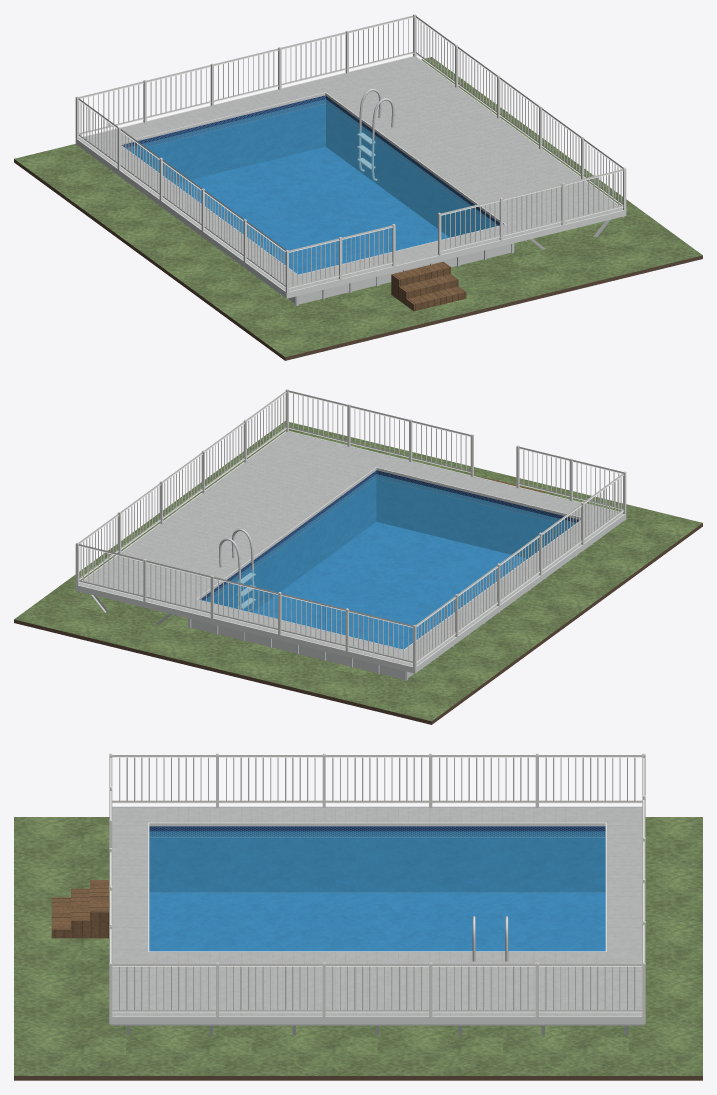
Rendered from kayak-pool-16x24-white-side-rec-fence.dc1886f75f.glb.
3 views of the same model, one above another, from view 1: azimuth 30°, elevation 25°; view 2: azimuth 150°, elevation 25°; view 3: azimuth 270°, elevation 25° (orthographic). The views are drawn at different scales.
Visible parts, largest first — view 1: ground, water, deck, fence, liner_floor, liner_wall, fascia, soil, steps, wall, steel; view 2: ground, water, deck, fence, liner_floor, liner_wall, fascia, soil, wall, steel; view 3: ground, water, deck, liner_wall, liner_floor, fence, fascia, soil, steps, stud.
Boxes of the visible parts, x1,y1,x2,y2 form: ground: (14,57,702,357); water: (126,99,498,274); deck: (78,56,622,291); fence: (75,14,626,292); liner_floor: (175,147,449,274); liner_wall: (121,95,499,237); fascia: (75,56,626,298); soil: (14,159,702,360); steps: (391,261,466,311); wall: (288,244,510,304); steel: (357,88,394,180); ground: (14,421,702,721); water: (203,474,575,649); deck: (79,431,623,666); fence: (75,389,626,667); liner_floor: (252,522,527,649); liner_wall: (200,470,580,612); fascia: (75,431,626,673); soil: (14,523,702,724); wall: (191,619,414,679); steel: (219,528,255,611); ground: (14,817,702,1075); water: (149,831,605,951); deck: (112,807,642,1015); liner_wall: (149,826,605,892); liner_floor: (149,892,605,951); fence: (109,753,645,1016); fascia: (109,806,645,1024); soil: (14,1076,702,1080); steps: (51,880,108,938); stud: (111,1024,643,1035).
Size of the model in its own units: 9.75 by 2.15 by 10.97.
Materials: 13 (5 with a texture image).
